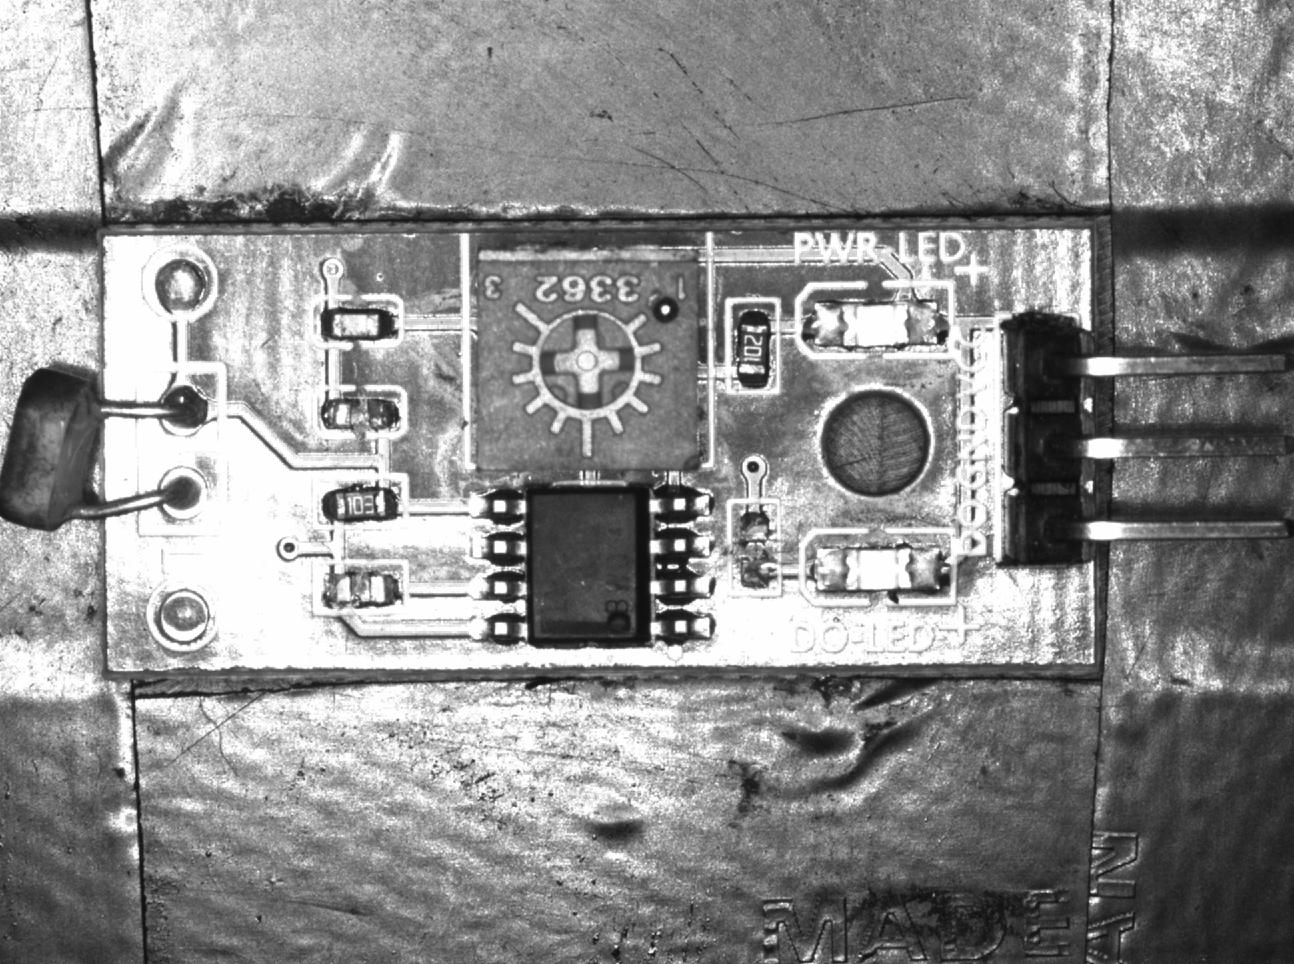miss: (314, 386, 410, 444), (730, 499, 784, 598), (315, 558, 404, 618)
ok: (305, 293, 403, 349), (314, 470, 408, 529), (729, 296, 776, 395)
